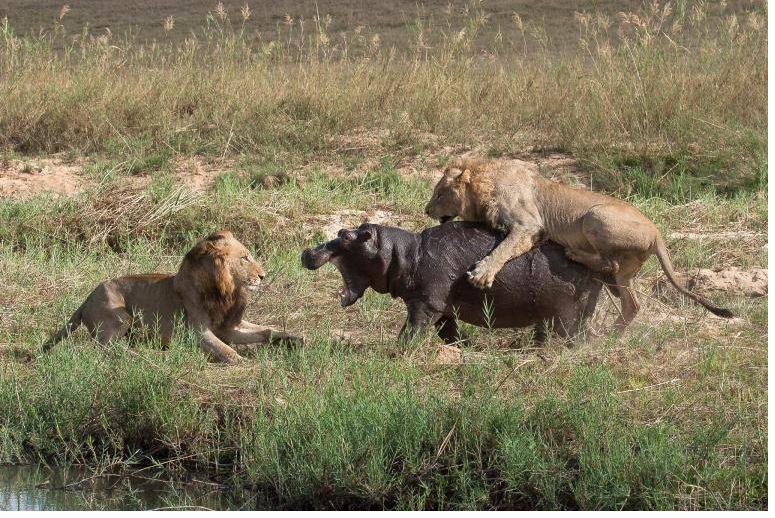Hippopotamus: (298, 221, 599, 346)
lion: (426, 152, 724, 326), (41, 226, 299, 360)
